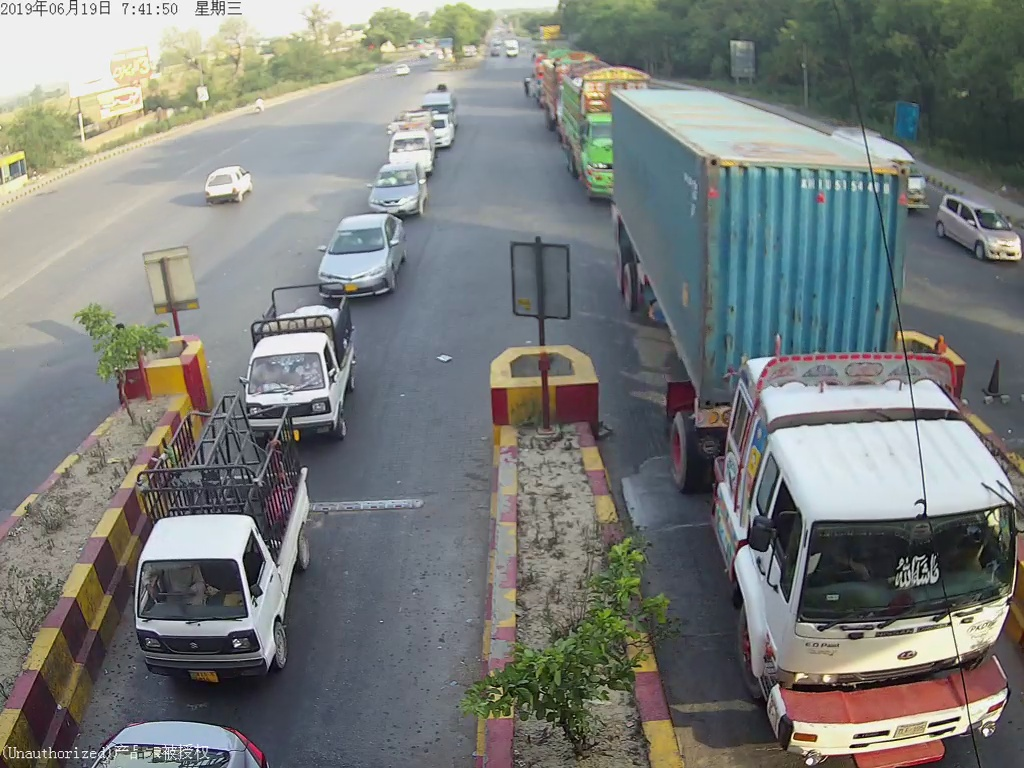Cat-1: (131, 412, 326, 703), (251, 285, 348, 419), (314, 214, 404, 290)
Cat-5: (589, 86, 1007, 751)
